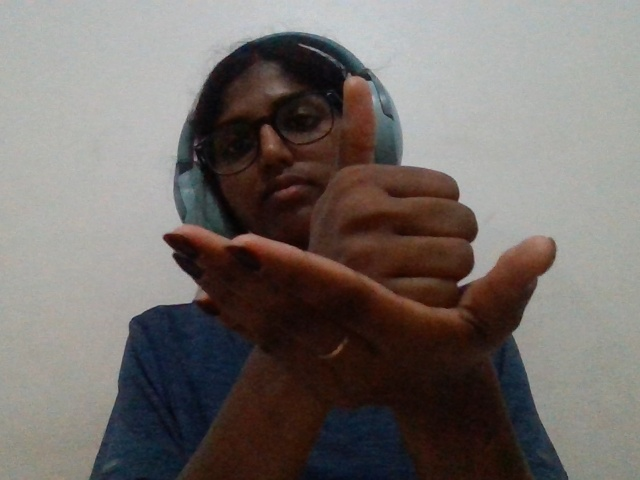Help: (114, 43, 558, 480)
